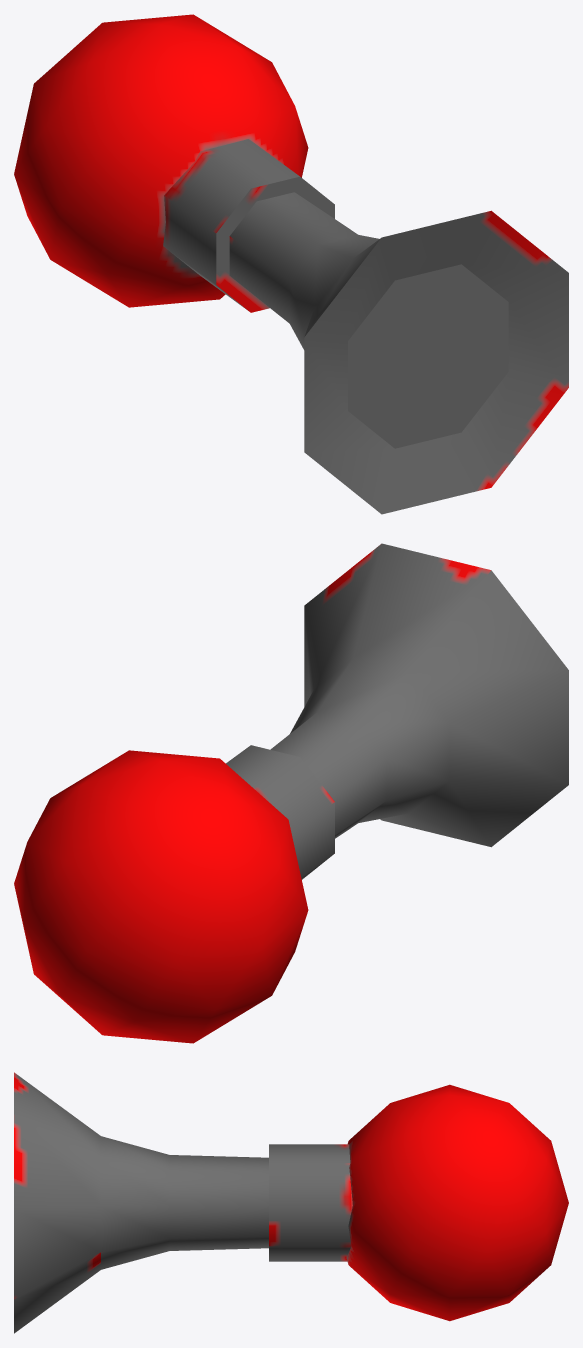
Rendered from bikehorn.glb.
The picture shows the model from 3 angles, top to bottom: view 1: azimuth 30°, elevation 25°; view 2: azimuth 150°, elevation 25°; view 3: azimuth 270°, elevation 25°; orthographic projection. The views are drawn at different scales.
Parts seen in each view (by area): view 1: BikeHorn; view 2: BikeHorn; view 3: BikeHorn.
Part boxes in pixels (x1=…): BikeHorn: x1=14, y1=14, x2=568, y2=514; BikeHorn: x1=14, y1=543, x2=568, y2=1043; BikeHorn: x1=14, y1=1072, x2=568, y2=1333.
Bounding box in the file's own units: 0.1351 × 0.1351 × 0.31.
Materials: 1 (1 with a texture image).
